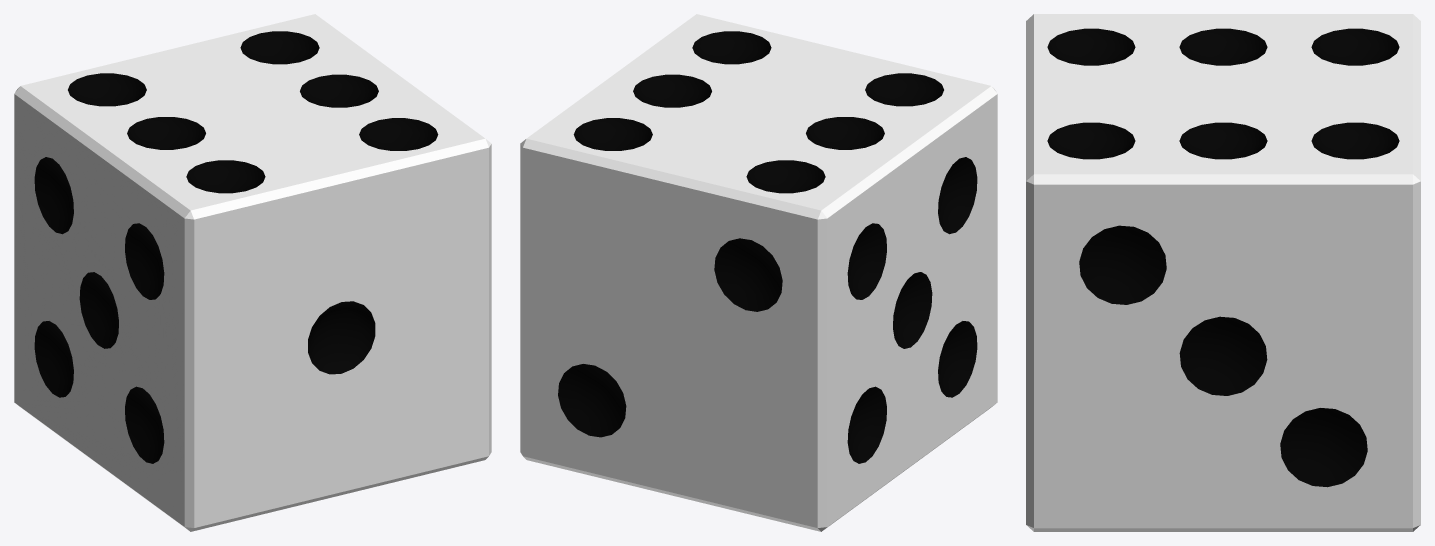
The model's file is Dice.gltf.
The picture shows the model from 3 angles, left to right: view 1: azimuth 30°, elevation 25°; view 2: azimuth 150°, elevation 25°; view 3: azimuth 270°, elevation 25°; orthographic projection. The views are drawn at different scales.
Parts seen in each view (by area): view 1: Dice; view 2: Dice; view 3: Dice.
Part boxes in pixels (<box>): Dice: <box>14,14,491,531</box>; Dice: <box>520,14,997,531</box>; Dice: <box>1026,14,1420,531</box>.
Bounding box in the file's own units: 0.5 × 0.5 × 0.5.
2 materials, 1 textured.
